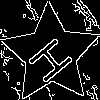H: (26, 29, 82, 86)
